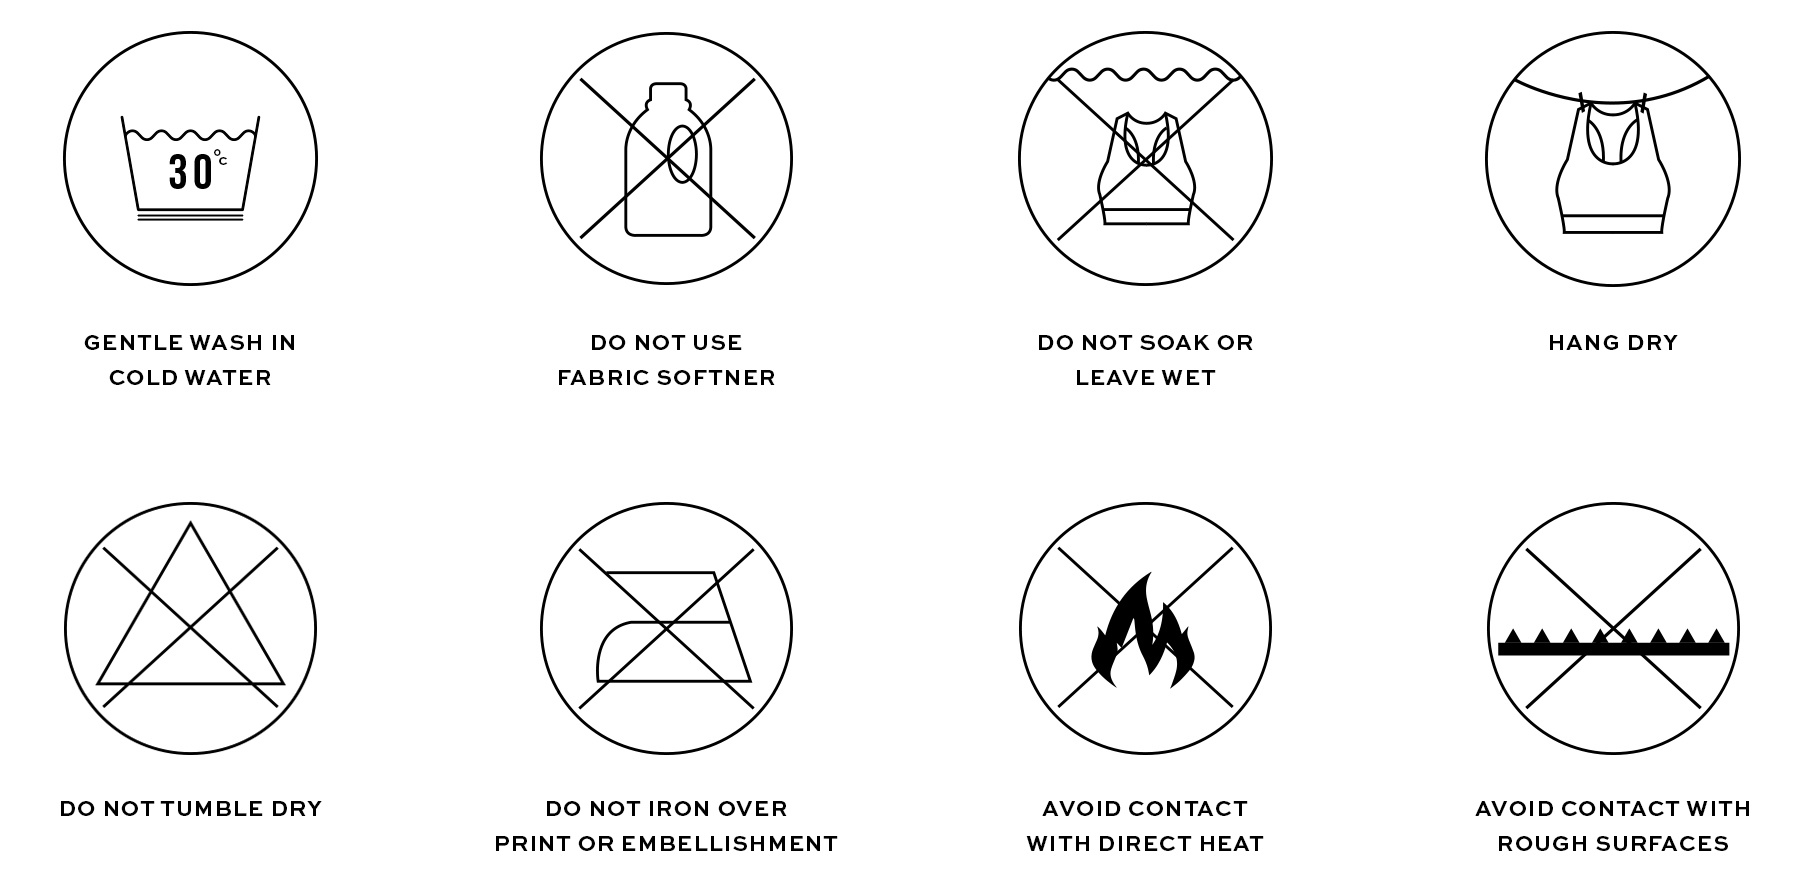do_not_bleach: (90, 519, 285, 718)
do_not_iron: (571, 544, 755, 722)
